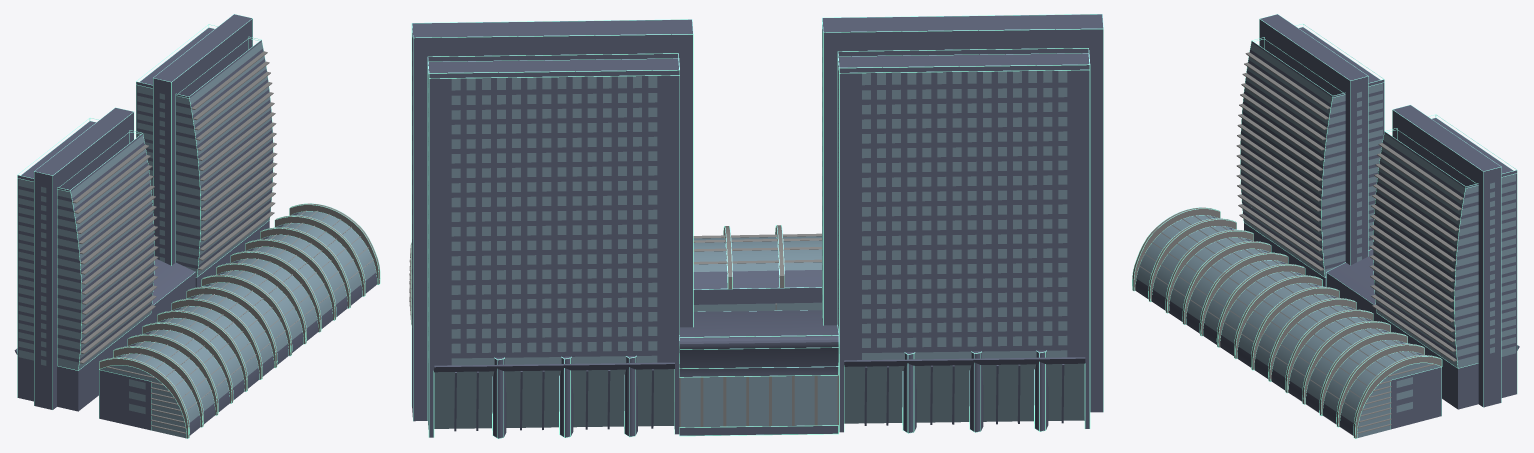
The model's file is beijing_jingji_kaifaqu.glb.
The picture shows the model from 3 angles, left to right: view 1: azimuth 30°, elevation 25°; view 2: azimuth 150°, elevation 25°; view 3: azimuth 270°, elevation 25°; orthographic projection. The views are drawn at different scales.
Visible parts, largest first — view 1: 02 - Default, 01 - Default, 04 - Default, 03 - Default; view 2: 02 - Default, 01 - Default, 03 - Default, 04 - Default; view 3: 02 - Default, 01 - Default, 04 - Default, 03 - Default.
Part boxes in pixels (left/top/right/bottom): 02 - Default: left=14, top=14, right=376, bottom=435; 01 - Default: left=18, top=41, right=375, bottom=438; 04 - Default: left=72, top=51, right=379, bottom=438; 03 - Default: left=17, top=14, right=380, bottom=438; 02 - Default: left=412, top=14, right=1103, bottom=438; 01 - Default: left=412, top=48, right=1084, bottom=428; 03 - Default: left=411, top=14, right=1103, bottom=438; 04 - Default: left=409, top=225, right=838, bottom=427; 02 - Default: left=1135, top=14, right=1519, bottom=435; 01 - Default: left=1136, top=42, right=1515, bottom=437; 04 - Default: left=1132, top=52, right=1463, bottom=438; 03 - Default: left=1132, top=14, right=1517, bottom=438.
Size of the model in its own units: 149 by 86.26 by 128.
